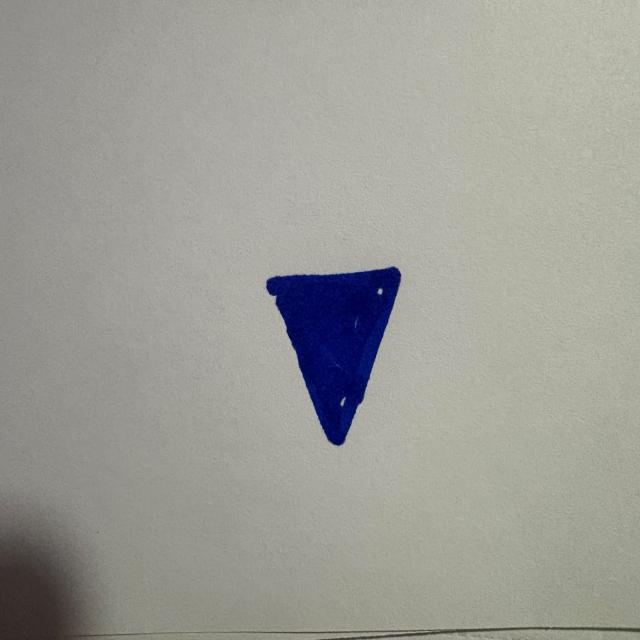Triangle: (266, 267, 400, 445)
